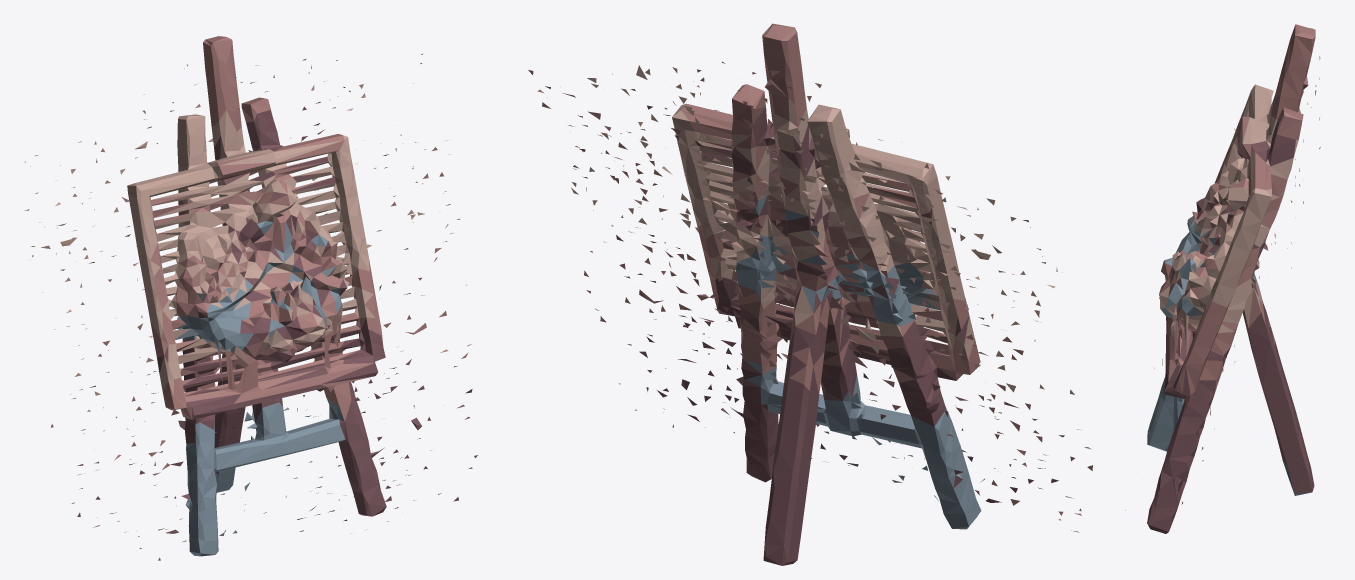
File: art_easel.glb
3 renders of one model, left to right at view 1: azimuth 30°, elevation 25°; view 2: azimuth 150°, elevation 25°; view 3: azimuth 270°, elevation 25°, orthographic. The views are drawn at different scales.
Parts seen in each view (by area): view 1: geometry_0; view 2: geometry_0; view 3: geometry_0.
Part boxes in pixels (x1,y1,x2,y2): geometry_0: [24, 36, 477, 560]; geometry_0: [528, 23, 1092, 565]; geometry_0: [1125, 24, 1320, 533].
Size of the model in its own units: 1.97 by 1.98 by 0.85.
